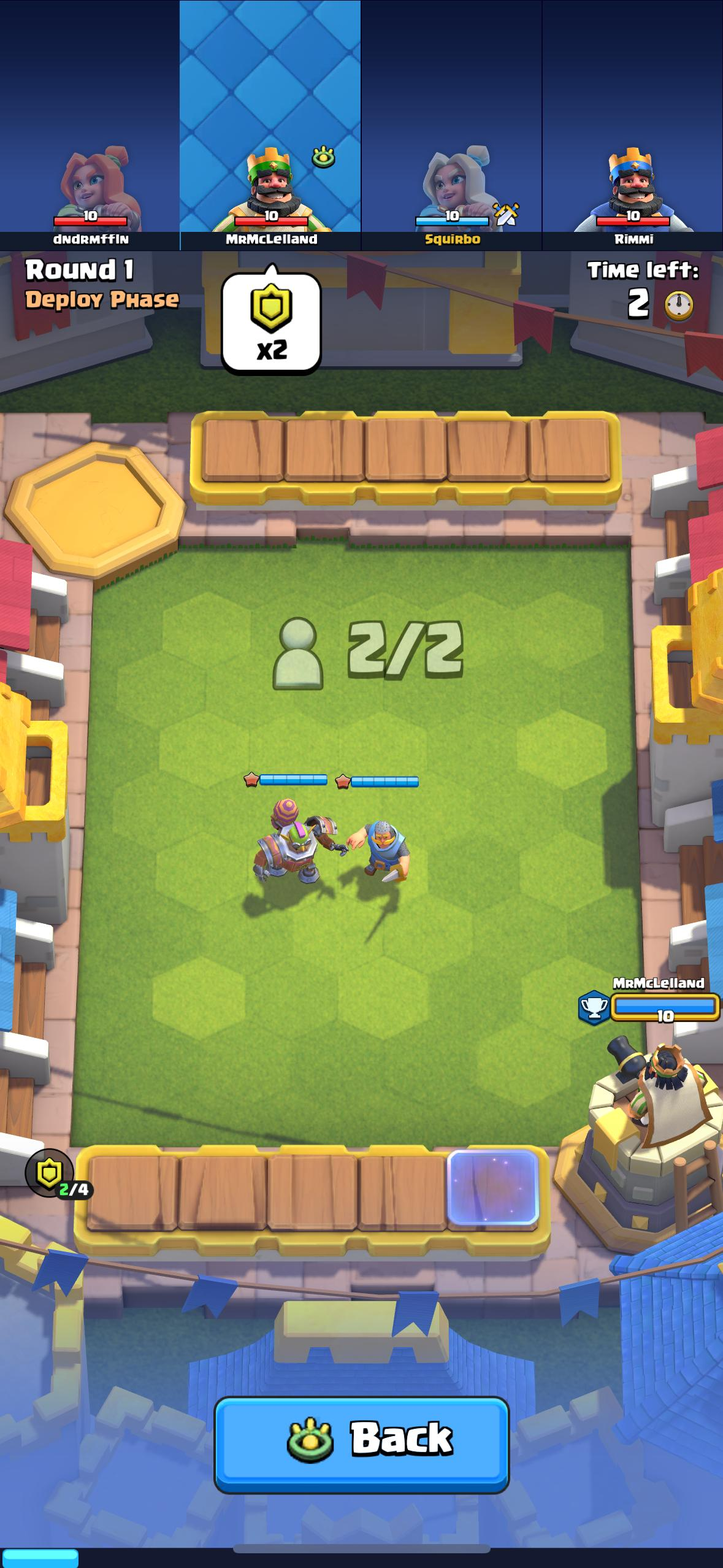knight: (353, 808, 413, 886)
machine: (249, 796, 340, 895)
